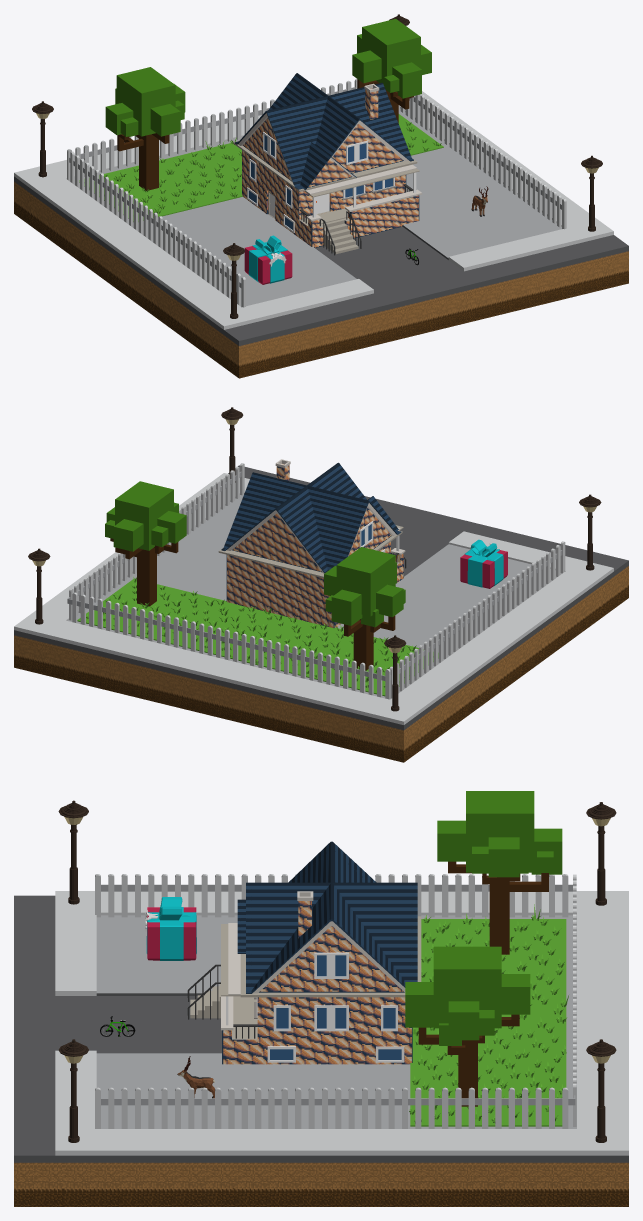
3 renders of one model, top to bottom at view 1: azimuth 30°, elevation 25°; view 2: azimuth 150°, elevation 25°; view 3: azimuth 270°, elevation 25°, orthographic. The views are drawn at different scales.
Visible parts, largest first — view 1: Cube.004, Cube.430, OBJRANDOM_GIANT_PRESENT; view 2: Cube.004, Cube.430, OBJRANDOM_GIANT_PRESENT; view 3: Cube.004, Cube.430, OBJRANDOM_GIANT_PRESENT.
Part boxes in pixels (x1,y1,x2,y2): Cube.004: [14, 14, 628, 378]; Cube.430: [233, 73, 422, 255]; OBJRANDOM_GIANT_PRESENT: [244, 235, 292, 284]; Cube.004: [14, 407, 628, 762]; Cube.430: [218, 459, 406, 627]; OBJRANDOM_GIANT_PRESENT: [460, 539, 507, 588]; Cube.004: [14, 791, 628, 1206]; Cube.430: [187, 841, 421, 1064]; OBJRANDOM_GIANT_PRESENT: [145, 897, 196, 960].
Bounding box in the file's own units: 4000 × 1579 × 4000.
Materials: 36 (4 with a texture image).
